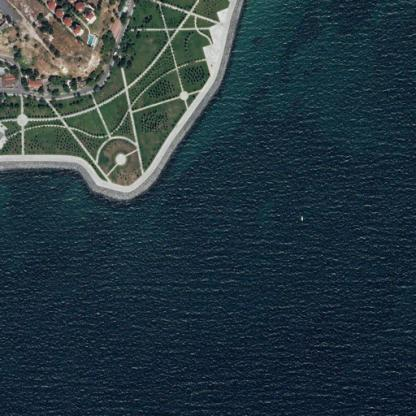ship: (296, 210, 306, 224)
